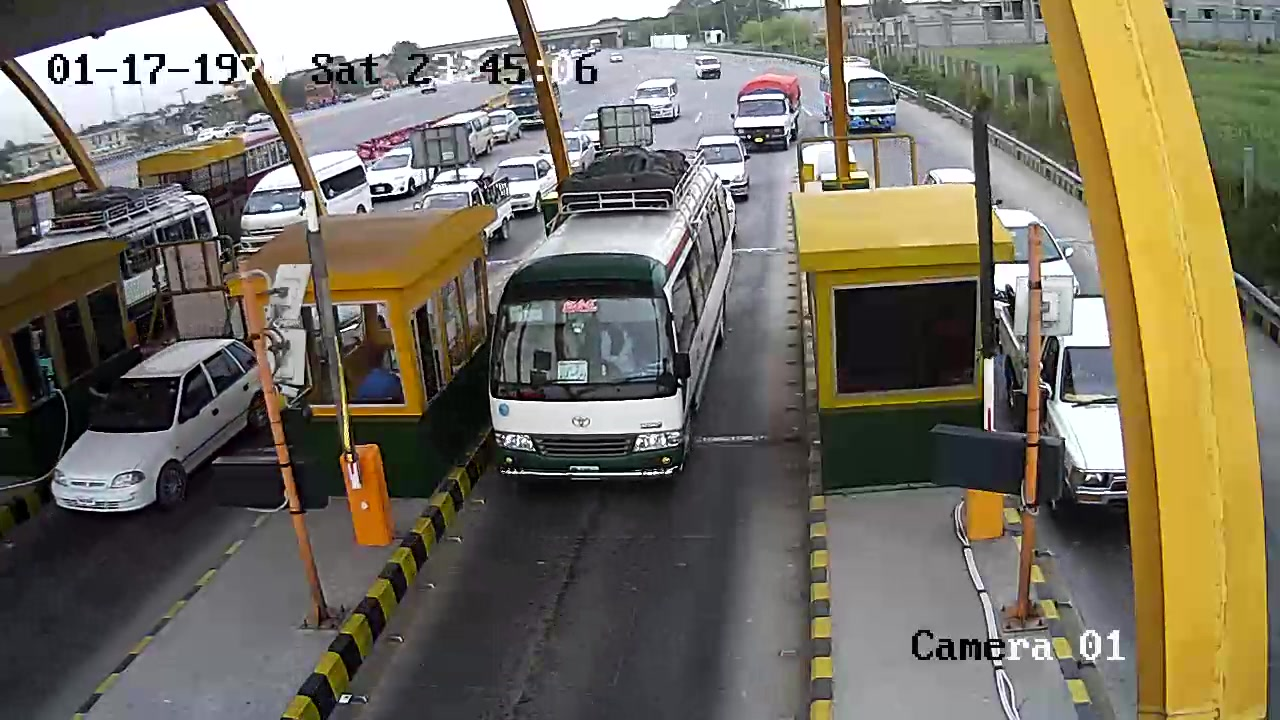F3: (486, 148, 744, 488)
